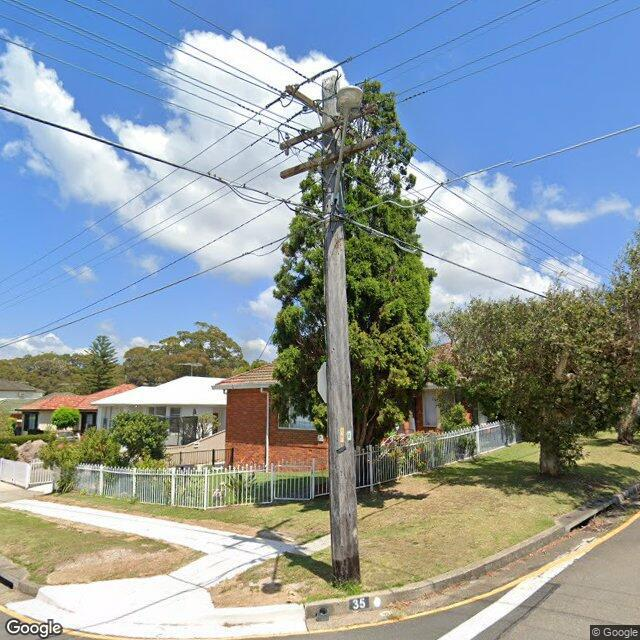crossarm: (279, 104, 379, 150), (279, 137, 379, 180), (285, 85, 356, 137)
streetlight: (331, 87, 364, 212)
timber-pole: (320, 75, 360, 588)
